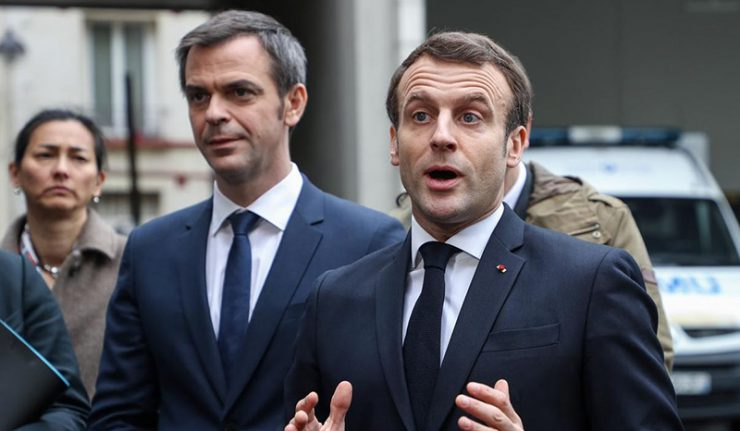without_mask: (391, 84, 527, 224), (182, 69, 308, 177), (19, 140, 101, 217)
